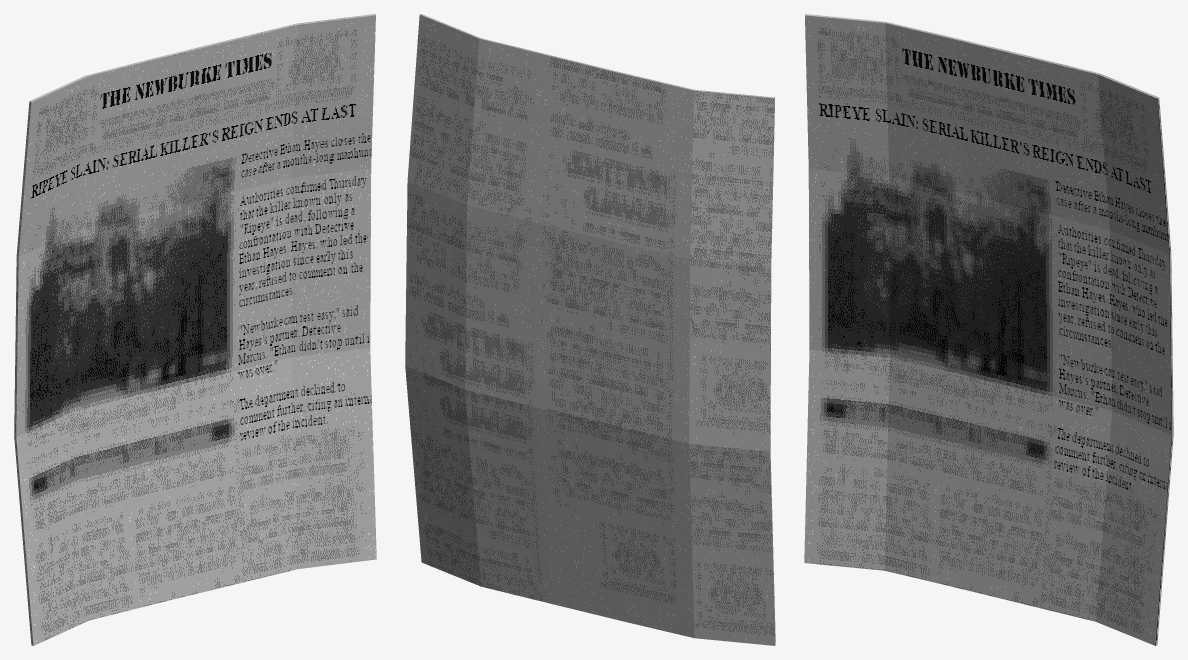
The model's file is Newspaper.glb.
3 views of the same model, side by side, from view 1: azimuth 30°, elevation 25°; view 2: azimuth 150°, elevation 25°; view 3: azimuth 330°, elevation 25° (orthographic).
Parts seen in each view (by area): view 1: Newspaper; view 2: Newspaper; view 3: Newspaper.
Boxes of the visible parts, x1=… form: Newspaper: x1=14, y1=14, x2=376, y2=645; Newspaper: x1=405, y1=14, x2=775, y2=645; Newspaper: x1=804, y1=14, x2=1173, y2=645.
Bounding box in the file's own units: 0.4945 × 0.7168 × 0.0615.
1 material, 1 textured.
